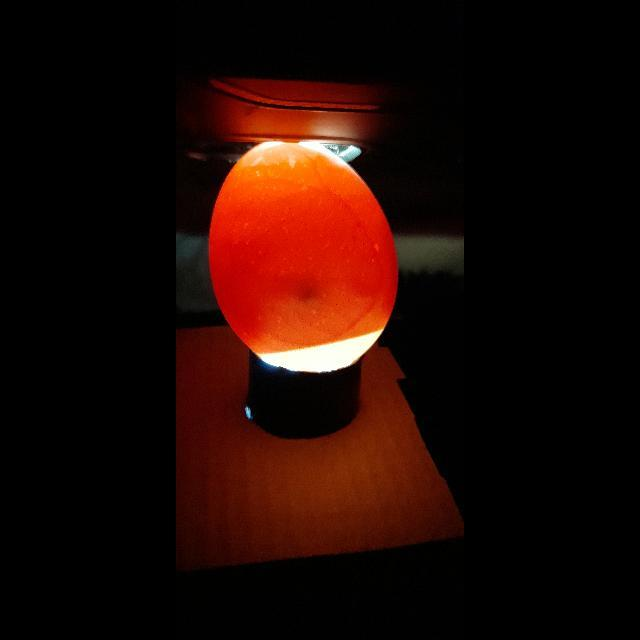Fertile: (201, 140, 411, 372)
